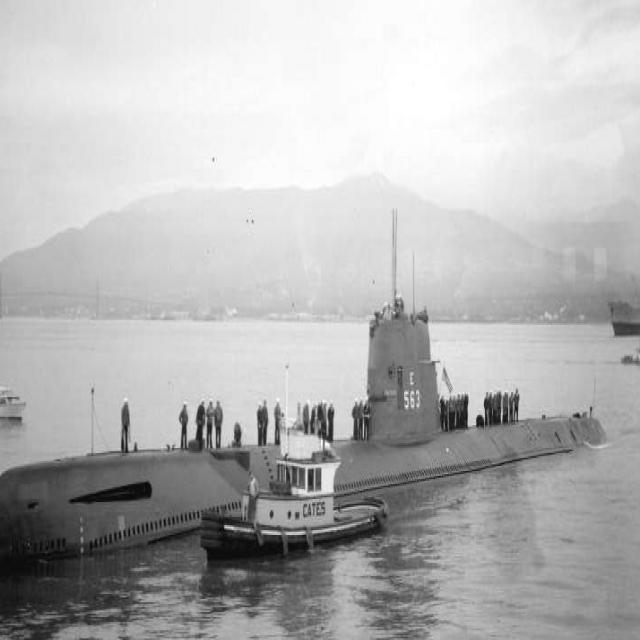submarine: (1, 202, 613, 576)
